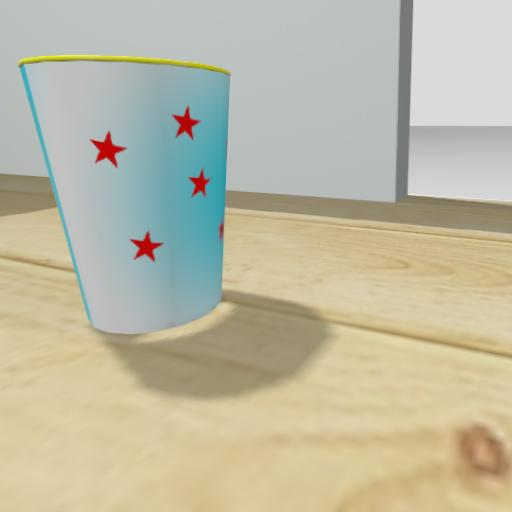Trash: (12, 52, 286, 373)
